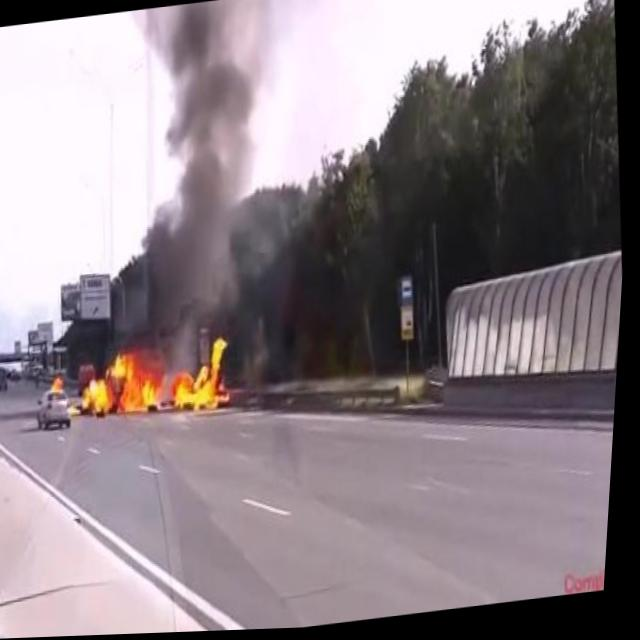fire: (77, 328, 242, 430), (50, 371, 73, 397)
